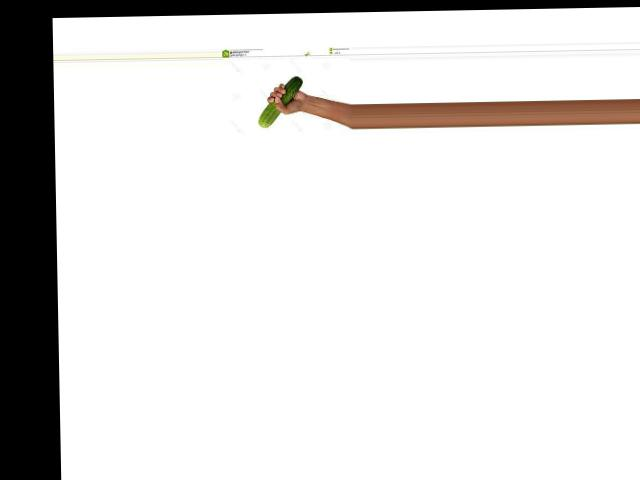cucumber: (258, 75, 304, 127)
